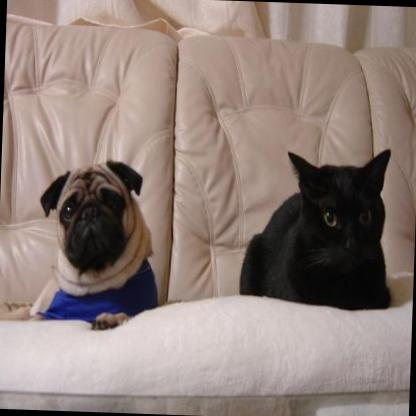pug: (27, 156, 163, 333)
